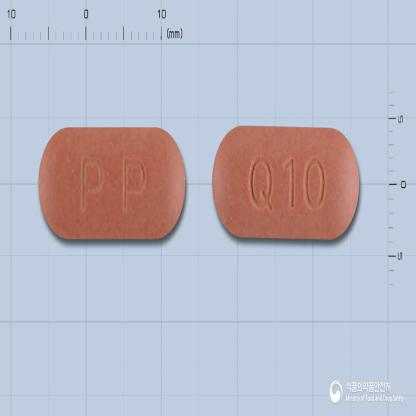pill: (37, 122, 186, 241), (211, 124, 360, 242)
